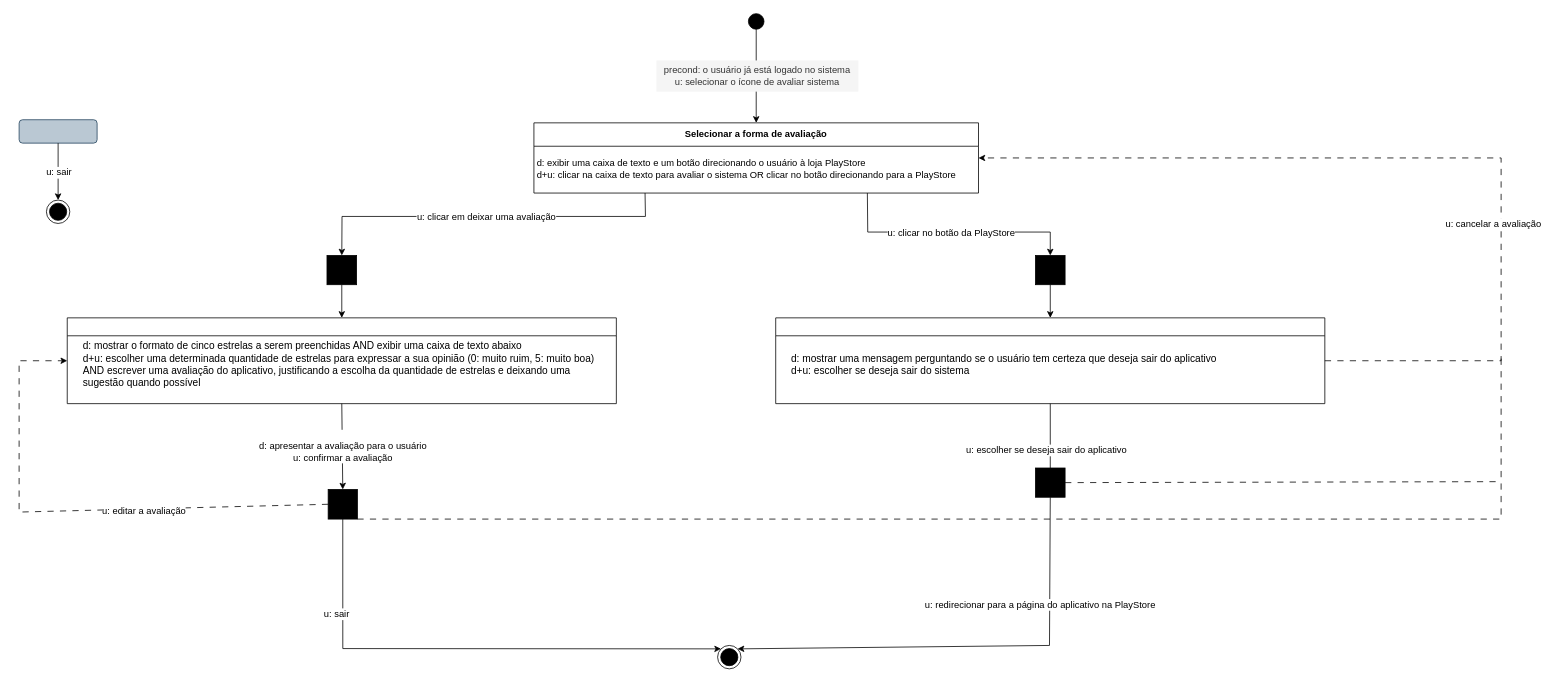
Some shapes in this 1555 by 683 pixel diagram are drawn without their labels. The shapes that lost their labels are listed below. From the top down, each one's box as (x1, y1, x2, y2) in pixels, then its label:
(66, 317, 616, 404): Avaliar o aplicativo pelo próprio sistema
(775, 317, 1325, 404): Confirmar a saída do usuário
